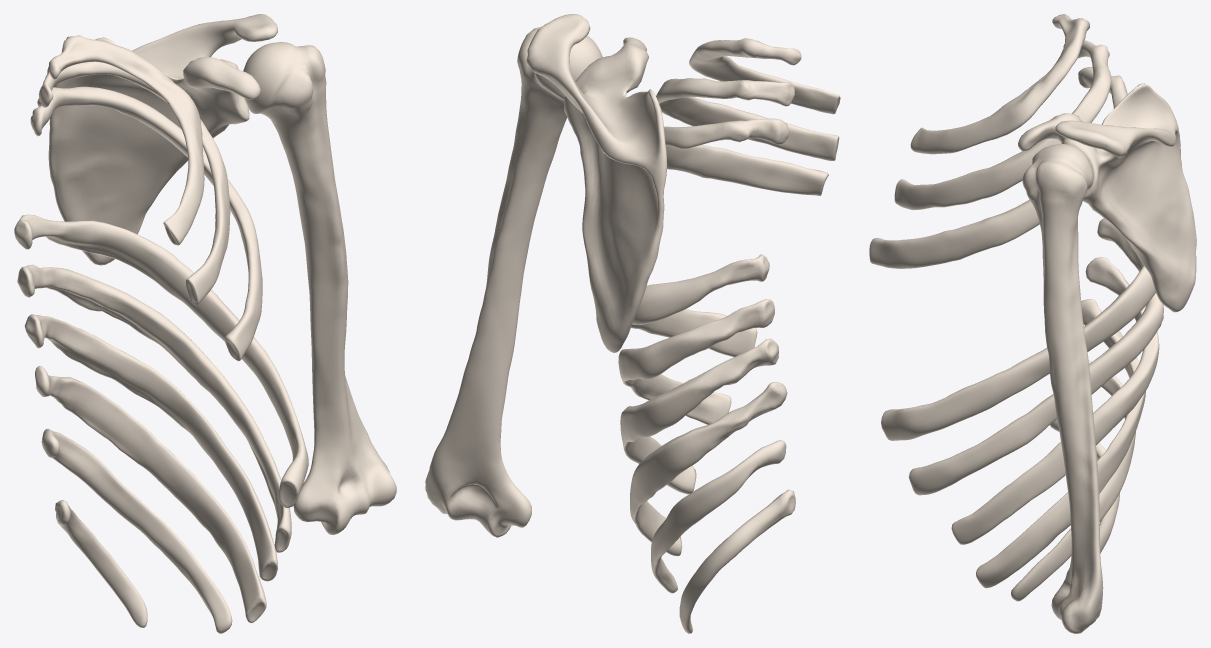
The model's file is native-left-bones.glb.
3 renders of one model, left to right at view 1: azimuth 30°, elevation 25°; view 2: azimuth 150°, elevation 25°; view 3: azimuth 270°, elevation 25°, orthographic. The views are drawn at different scales.
Parts seen in each view (by area): view 1: VMRA_NATIVE_LEFT_O3D_529cd1e2ec44af, VMRA_NATIVE_LEFT_O3D_2dd47663fd9252, VMRA_NATIVE_LEFT_O3D_8bddca95bf4356, VMRA_NATIVE_LEFT_O3D_025acb3eb4f4c3, VMRA_NATIVE_LEFT_O3D_5f2e3583be1966, VMRA_NATIVE_LEFT_O3D_de2781bd871d9d, VMRA_NATIVE_LEFT_O3D_11991810878b71, VMRA_NATIVE_LEFT_O3D_ce73e88b02db18, VMRA_NATIVE_LEFT_O3D_12566afc8ac71c, VMRA_NATIVE_LEFT_O3D_d0e1cb2dc7975a, VMRA_NATIVE_LEFT_O3D_f3428a581f4473; view 2: VMRA_NATIVE_LEFT_O3D_2dd47663fd9252, VMRA_NATIVE_LEFT_O3D_529cd1e2ec44af, VMRA_NATIVE_LEFT_O3D_11991810878b71, VMRA_NATIVE_LEFT_O3D_de2781bd871d9d, VMRA_NATIVE_LEFT_O3D_d0e1cb2dc7975a, VMRA_NATIVE_LEFT_O3D_5f2e3583be1966, VMRA_NATIVE_LEFT_O3D_025acb3eb4f4c3, VMRA_NATIVE_LEFT_O3D_8bddca95bf4356, VMRA_NATIVE_LEFT_O3D_ce73e88b02db18, VMRA_NATIVE_LEFT_O3D_12566afc8ac71c, VMRA_NATIVE_LEFT_O3D_f3428a581f4473; view 3: VMRA_NATIVE_LEFT_O3D_529cd1e2ec44af, VMRA_NATIVE_LEFT_O3D_2dd47663fd9252, VMRA_NATIVE_LEFT_O3D_de2781bd871d9d, VMRA_NATIVE_LEFT_O3D_8bddca95bf4356, VMRA_NATIVE_LEFT_O3D_5f2e3583be1966, VMRA_NATIVE_LEFT_O3D_11991810878b71, VMRA_NATIVE_LEFT_O3D_d0e1cb2dc7975a, VMRA_NATIVE_LEFT_O3D_025acb3eb4f4c3, VMRA_NATIVE_LEFT_O3D_12566afc8ac71c, VMRA_NATIVE_LEFT_O3D_ce73e88b02db18, VMRA_NATIVE_LEFT_O3D_f3428a581f4473.
Boxes of the visible parts, x1,y1,x2,y2 form: VMRA_NATIVE_LEFT_O3D_529cd1e2ec44af: [243, 42, 396, 534]; VMRA_NATIVE_LEFT_O3D_2dd47663fd9252: [48, 14, 277, 265]; VMRA_NATIVE_LEFT_O3D_8bddca95bf4356: [14, 214, 308, 508]; VMRA_NATIVE_LEFT_O3D_025acb3eb4f4c3: [35, 366, 266, 622]; VMRA_NATIVE_LEFT_O3D_5f2e3583be1966: [24, 314, 277, 581]; VMRA_NATIVE_LEFT_O3D_de2781bd871d9d: [17, 264, 291, 552]; VMRA_NATIVE_LEFT_O3D_11991810878b71: [30, 86, 262, 361]; VMRA_NATIVE_LEFT_O3D_ce73e88b02db18: [41, 428, 232, 633]; VMRA_NATIVE_LEFT_O3D_12566afc8ac71c: [49, 35, 204, 245]; VMRA_NATIVE_LEFT_O3D_d0e1cb2dc7975a: [38, 61, 230, 305]; VMRA_NATIVE_LEFT_O3D_f3428a581f4473: [55, 500, 147, 627]; VMRA_NATIVE_LEFT_O3D_2dd47663fd9252: [526, 14, 667, 352]; VMRA_NATIVE_LEFT_O3D_529cd1e2ec44af: [425, 26, 602, 537]; VMRA_NATIVE_LEFT_O3D_11991810878b71: [664, 118, 828, 195]; VMRA_NATIVE_LEFT_O3D_de2781bd871d9d: [618, 299, 774, 424]; VMRA_NATIVE_LEFT_O3D_d0e1cb2dc7975a: [656, 78, 839, 160]; VMRA_NATIVE_LEFT_O3D_5f2e3583be1966: [620, 338, 778, 494]; VMRA_NATIVE_LEFT_O3D_025acb3eb4f4c3: [630, 382, 787, 556]; VMRA_NATIVE_LEFT_O3D_8bddca95bf4356: [631, 254, 769, 357]; VMRA_NATIVE_LEFT_O3D_ce73e88b02db18: [651, 440, 786, 593]; VMRA_NATIVE_LEFT_O3D_12566afc8ac71c: [689, 38, 840, 114]; VMRA_NATIVE_LEFT_O3D_f3428a581f4473: [679, 489, 795, 633]; VMRA_NATIVE_LEFT_O3D_529cd1e2ec44af: [1022, 144, 1103, 633]; VMRA_NATIVE_LEFT_O3D_2dd47663fd9252: [1018, 83, 1196, 312]; VMRA_NATIVE_LEFT_O3D_de2781bd871d9d: [908, 218, 1163, 495]; VMRA_NATIVE_LEFT_O3D_8bddca95bf4356: [881, 265, 1155, 440]; VMRA_NATIVE_LEFT_O3D_5f2e3583be1966: [951, 257, 1159, 544]; VMRA_NATIVE_LEFT_O3D_11991810878b71: [869, 67, 1127, 268]; VMRA_NATIVE_LEFT_O3D_d0e1cb2dc7975a: [894, 40, 1111, 210]; VMRA_NATIVE_LEFT_O3D_025acb3eb4f4c3: [976, 299, 1145, 588]; VMRA_NATIVE_LEFT_O3D_12566afc8ac71c: [910, 14, 1089, 154]; VMRA_NATIVE_LEFT_O3D_ce73e88b02db18: [1011, 360, 1135, 601]; VMRA_NATIVE_LEFT_O3D_f3428a581f4473: [1050, 419, 1119, 553].
Bounding box in the file's own units: 0.2333 × 0.3791 × 0.2092.
